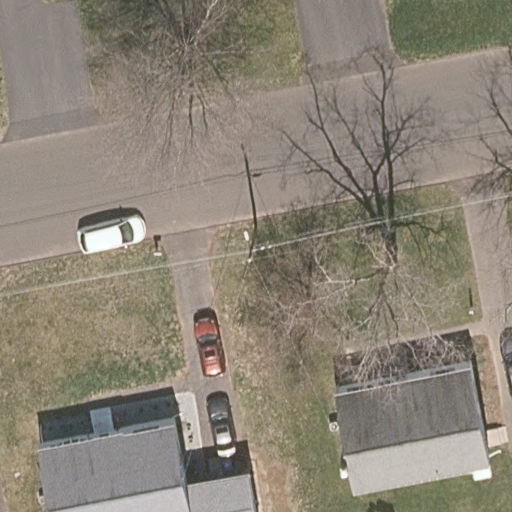DT: (245, 227, 257, 264)
